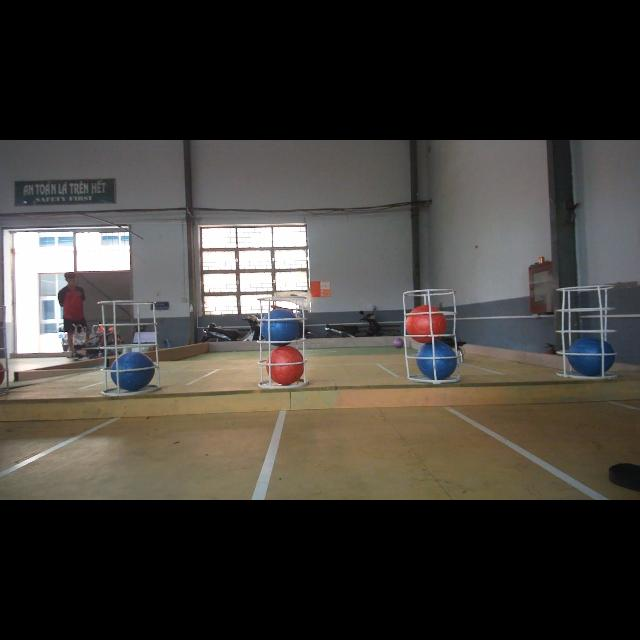B: (568, 336, 616, 376), (260, 308, 300, 346), (417, 342, 457, 380), (112, 352, 154, 388)
R: (406, 304, 446, 344), (266, 346, 304, 386)
